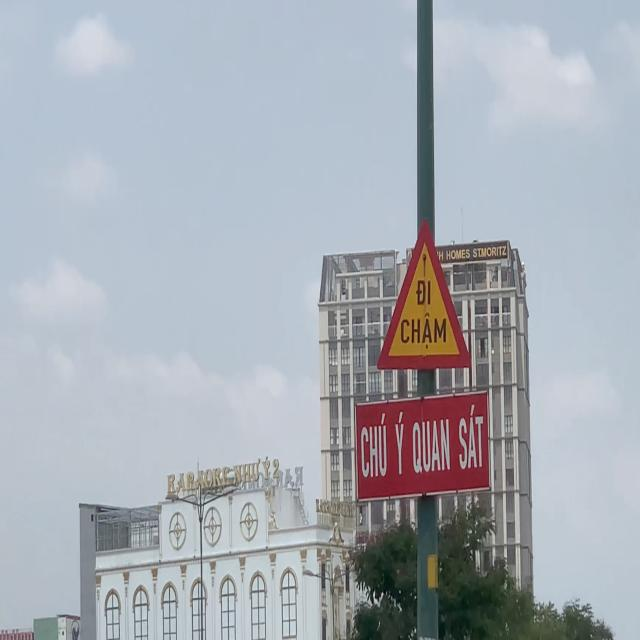Nguy hiem: (376, 217, 473, 370)
